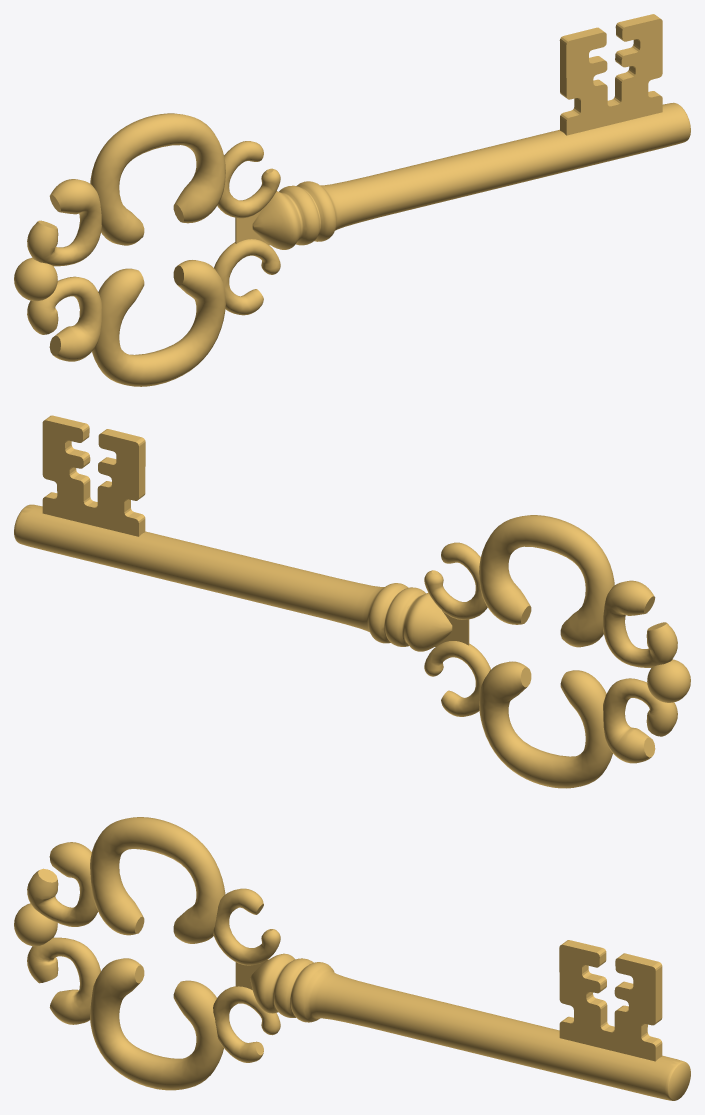
File: Key.fbx
3 views of the same model, one above another, from view 1: azimuth 30°, elevation 25°; view 2: azimuth 150°, elevation 25°; view 3: azimuth 330°, elevation 25° (orthographic).
Visible parts, largest first — view 1: Key_LOD0; view 2: Key_LOD0; view 3: Key_LOD0.
Boxes of the visible parts, box(x1,y1,x2,y2) form: Key_LOD0: box(14, 14, 690, 386); Key_LOD0: box(14, 415, 690, 788); Key_LOD0: box(14, 817, 690, 1100).
Size of what is drawn, in the model's own units: 4.51 by 1.73 by 0.417.
